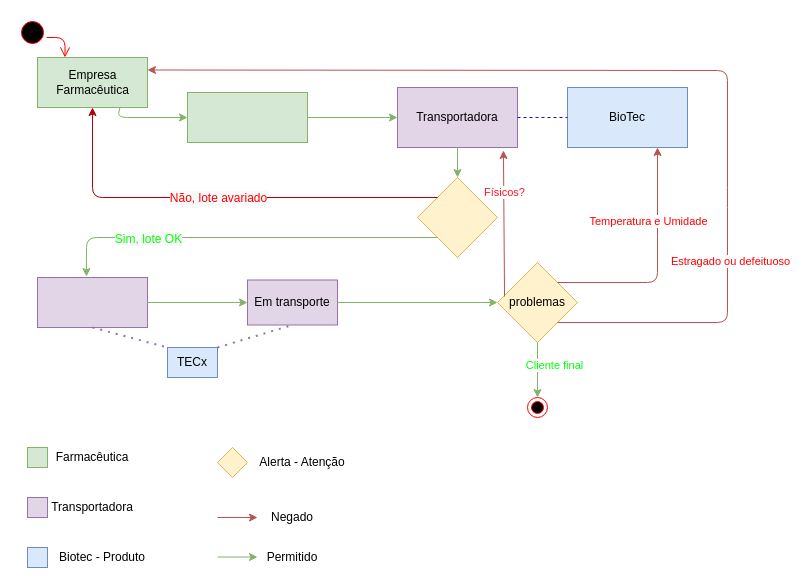
The diagram is 807 pixels wide and 585 high, and some of its shapes have lost their labels. Each missing label, with the box of its shape:
Em bom estado: (416, 176, 498, 258)
Lote do medicamento: (186, 92, 308, 142)
Segue para transporte: (36, 276, 148, 328)
